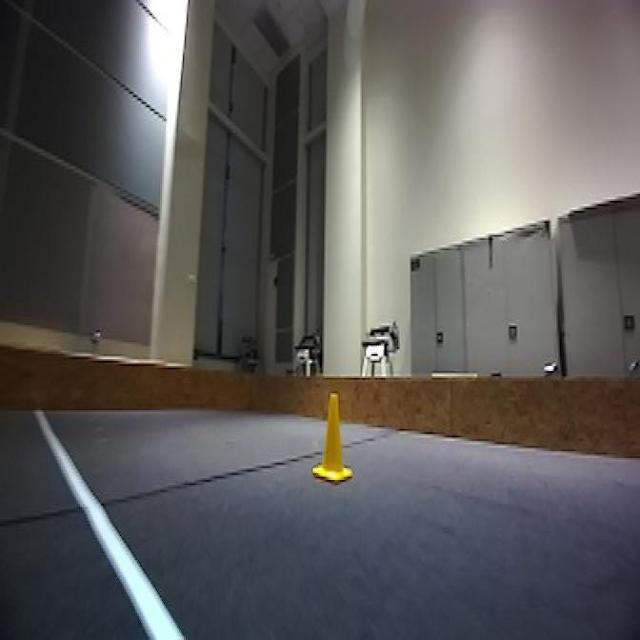frc_cone: (314, 389, 356, 482)
